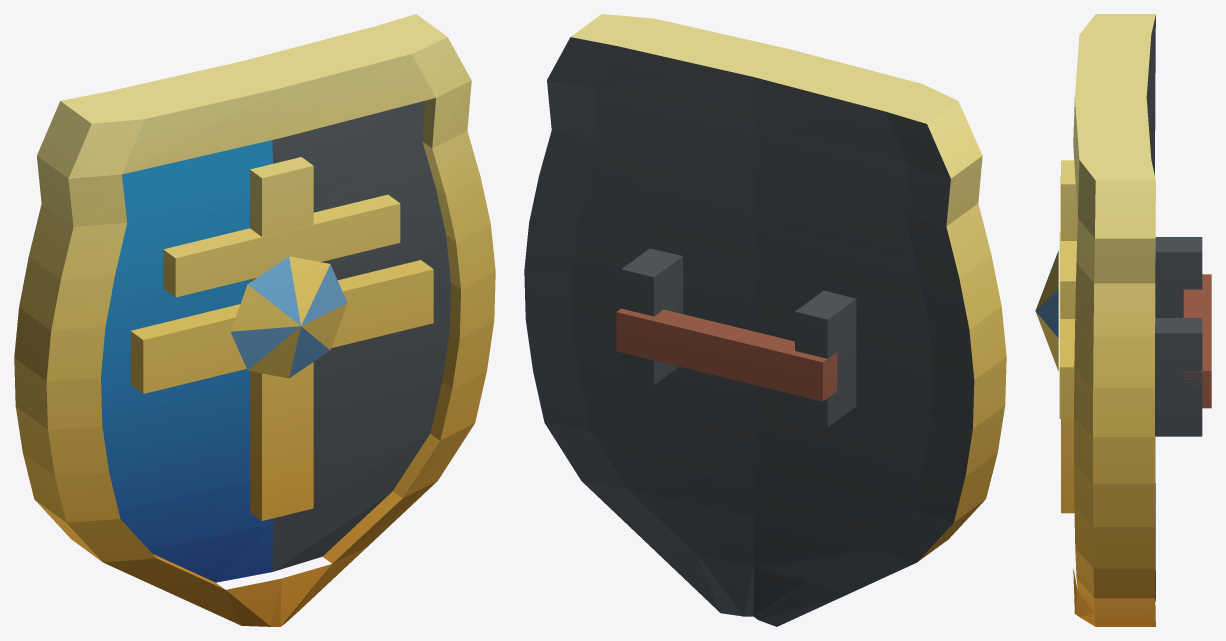
The model's file is source.glb.
3 renders of one model, left to right at view 1: azimuth 30°, elevation 25°; view 2: azimuth 150°, elevation 25°; view 3: azimuth 270°, elevation 25°, orthographic. The views are drawn at different scales.
Visible parts, largest first — view 1: model; view 2: model; view 3: model.
Boxes of the visible parts, left/top/right/bottom form: model: left=14, top=14, right=495, bottom=626; model: left=524, top=14, right=1006, bottom=626; model: left=1035, top=14, right=1211, bottom=626.
Size of the model in its own units: 0.96 by 1.1 by 0.34.
Materials: 1 (1 with a texture image).
